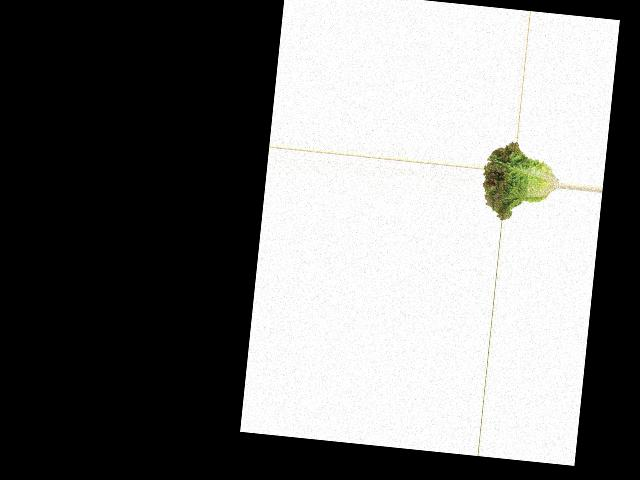lettuce: (479, 139, 562, 225)
